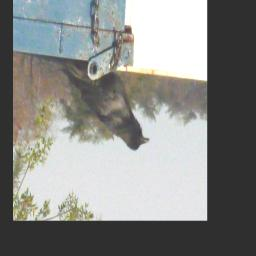Crow: (63, 62, 151, 152)
